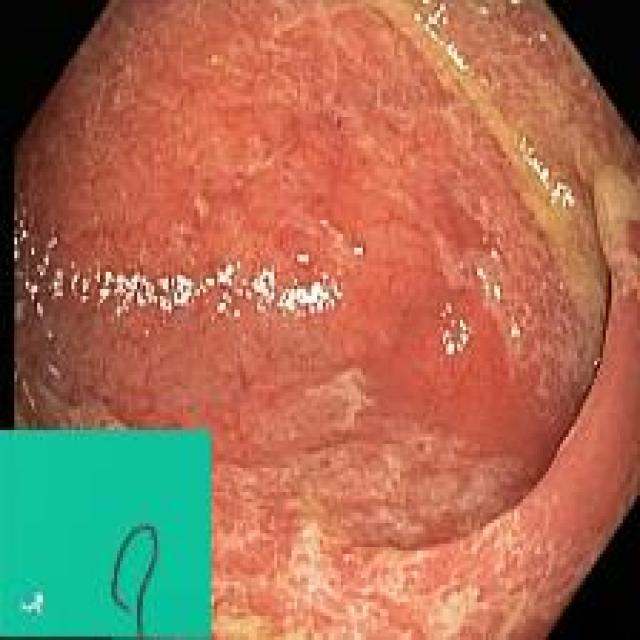ulcerative-colitis-grade-1: (16, 3, 638, 549)
